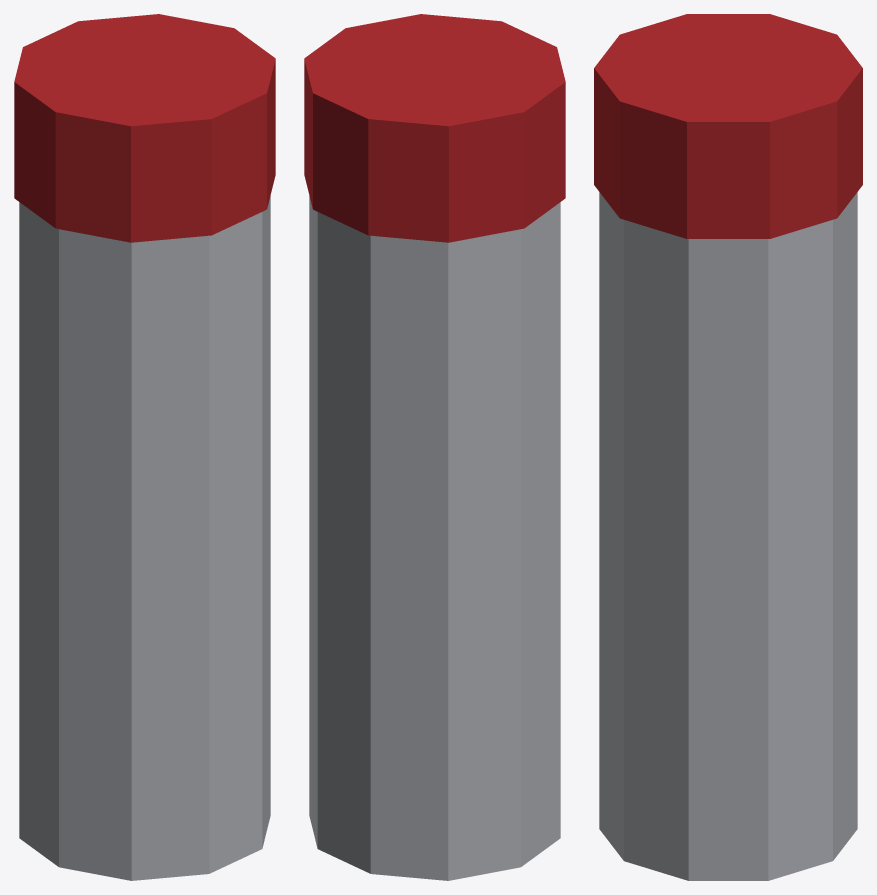
File: Thermos.obj
3 views of the same model, side by side, from view 1: azimuth 30°, elevation 25°; view 2: azimuth 150°, elevation 25°; view 3: azimuth 270°, elevation 25° (orthographic).
Parts seen in each view (by area): view 1: Thermos; view 2: Thermos; view 3: Thermos.
Boxes of the visible parts, box(x1,y1,x2,y2) form: Thermos: box(14, 14, 275, 880); Thermos: box(304, 14, 565, 880); Thermos: box(594, 14, 862, 880).
Size of the model in its own units: 0.0989 by 0.325 by 0.104.
1 material, 1 textured.
